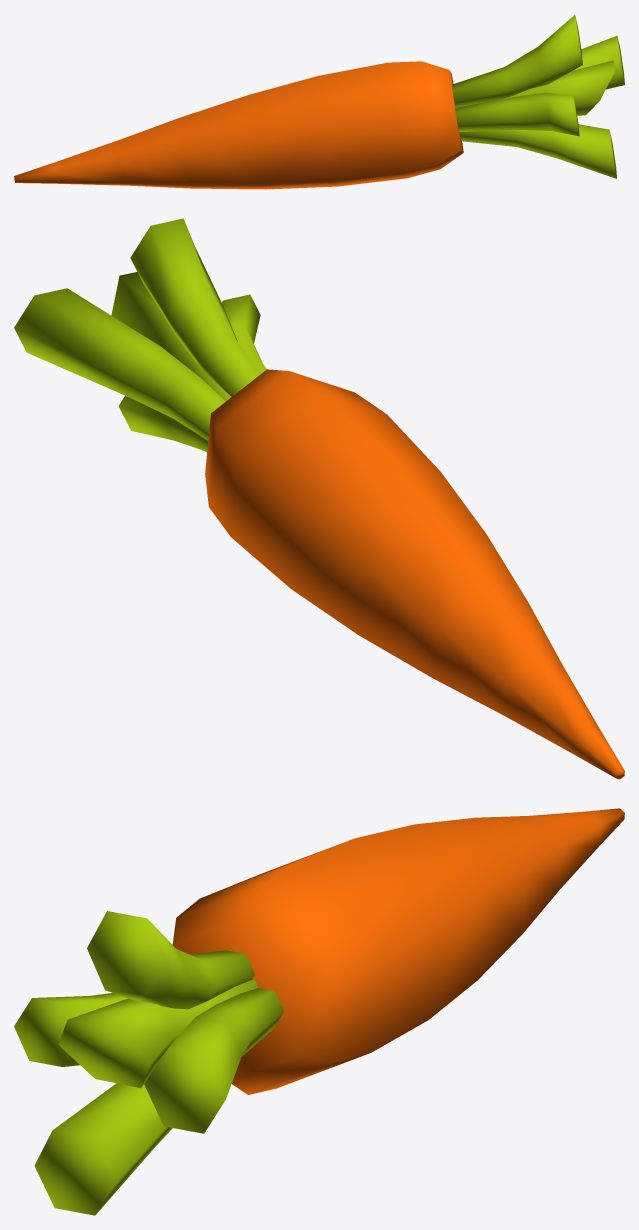
The model's file is Carrot.fbx.
3 renders of one model, top to bottom at view 1: azimuth 30°, elevation 25°; view 2: azimuth 150°, elevation 25°; view 3: azimuth 270°, elevation 25°, orthographic. The views are drawn at different scales.
Parts seen in each view (by area): view 1: Carrot; view 2: Carrot; view 3: Carrot.
Boxes of the visible parts, x1,y1,x2,y2 form: Carrot: [14, 14, 624, 189]; Carrot: [14, 218, 624, 779]; Carrot: [14, 808, 624, 1215].
Bounding box in the file's own units: 117 × 37.19 × 67.39.
